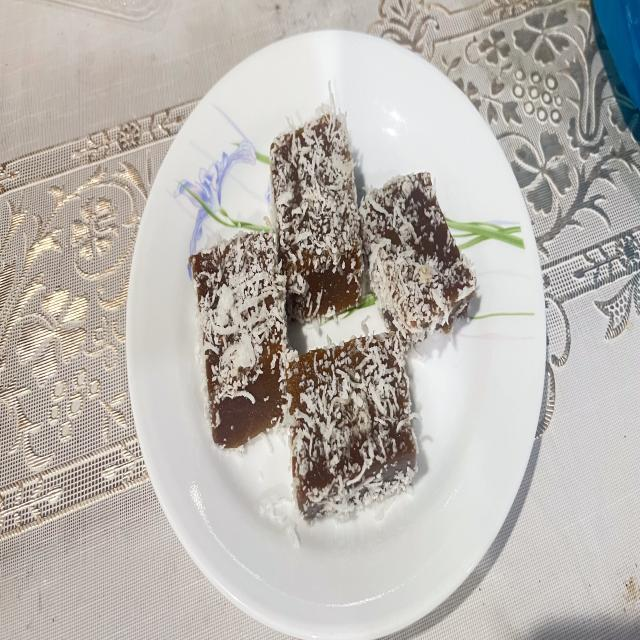kaswi: (286, 331, 418, 518), (190, 231, 288, 449), (270, 91, 362, 322), (359, 173, 476, 347)
